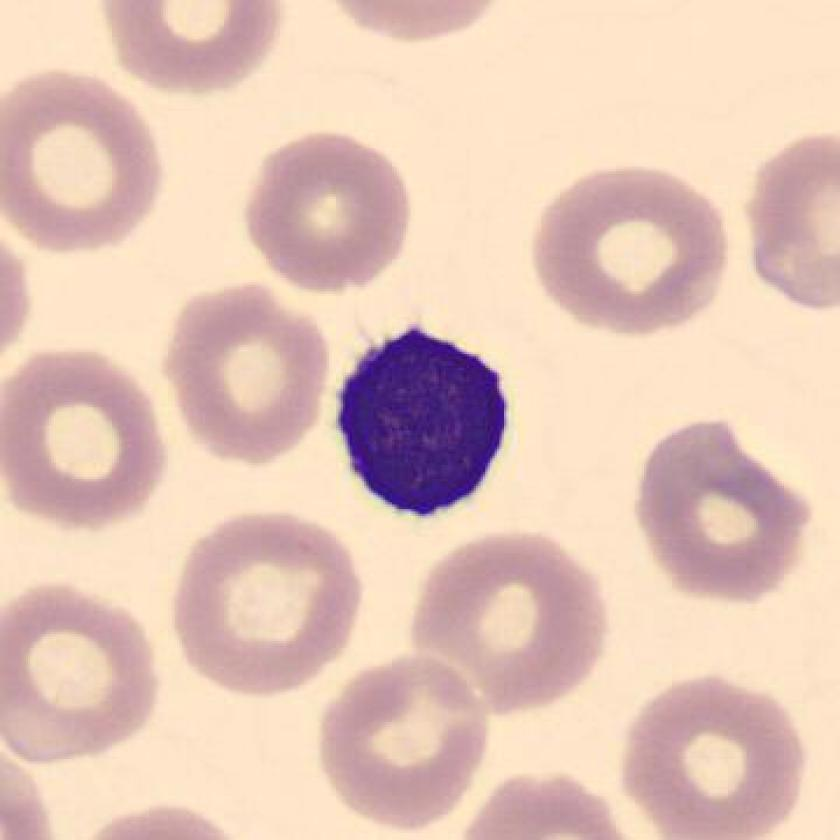lymphocyte: (316, 316, 528, 538)
